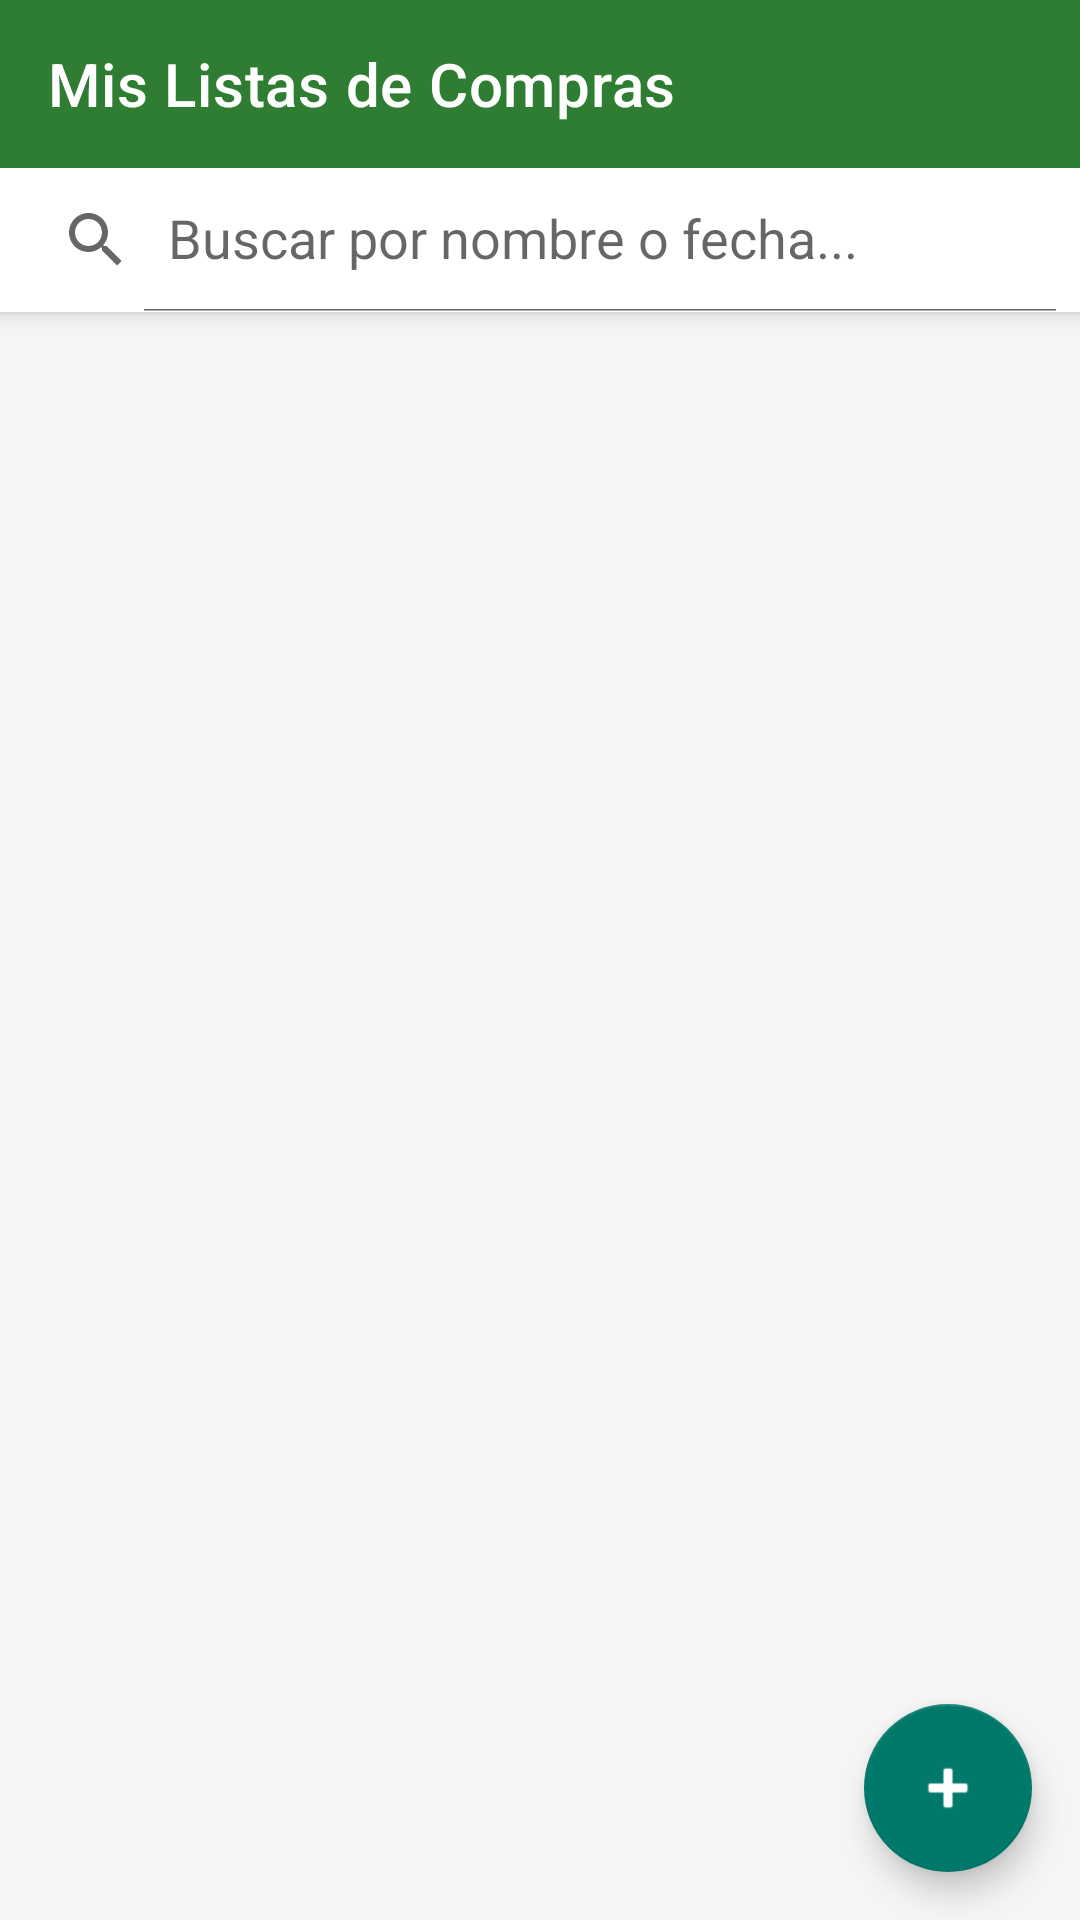

Icon click points for this 1080 x 1920 phone screenshot, format (x,y):
Nueva Lista: (948,1788)
